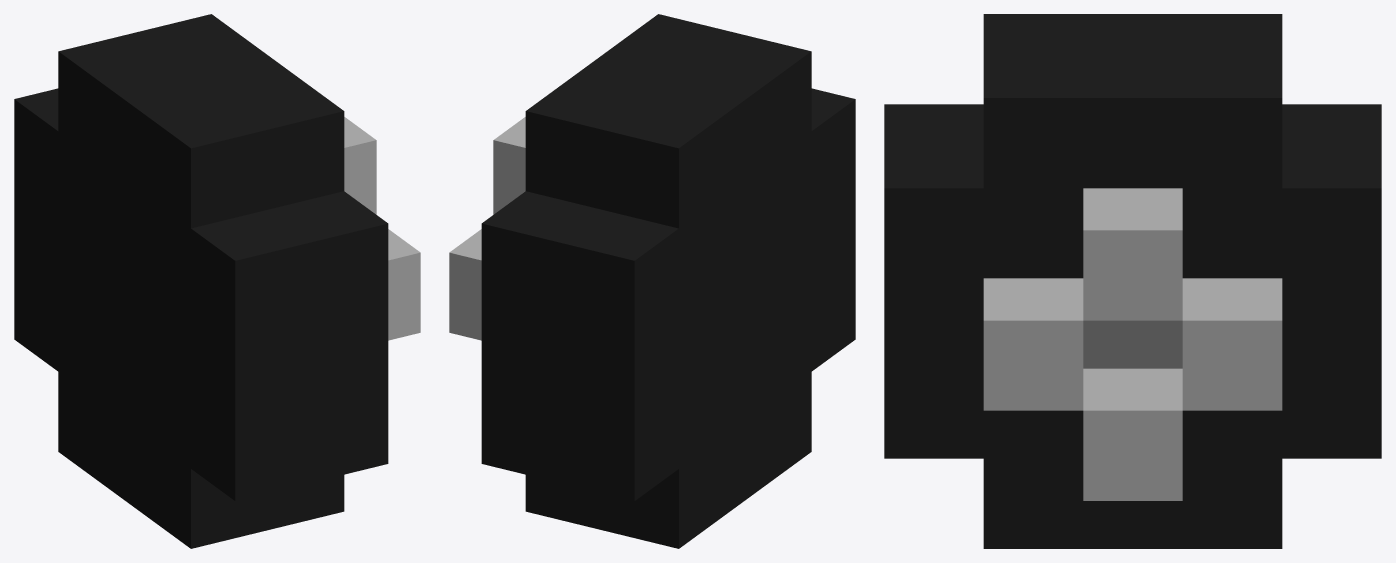
The model's file is CarModel_Wheel.obj.
3 renders of one model, left to right at view 1: azimuth 30°, elevation 25°; view 2: azimuth 150°, elevation 25°; view 3: azimuth 270°, elevation 25°, orthographic. The views are drawn at different scales.
Parts seen in each view (by area): view 1: CarMode_Wheel; view 2: CarMode_Wheel; view 3: CarMode_Wheel.
Boxes of the visible parts, x1,y1,x2,y2 form: CarMode_Wheel: (14, 14, 420, 548); CarMode_Wheel: (449, 14, 855, 548); CarMode_Wheel: (884, 14, 1381, 548).
Bounding box in the file's own units: 3 × 5 × 5.
1 material, 1 textured.
